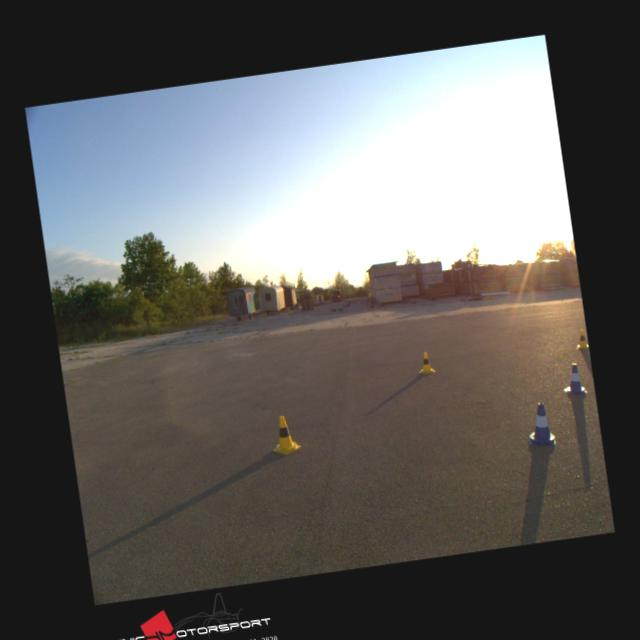blue_cone: (524, 401, 556, 447), (560, 362, 587, 396)
yellow_cone: (268, 414, 301, 456), (417, 351, 435, 374), (574, 328, 588, 349)
